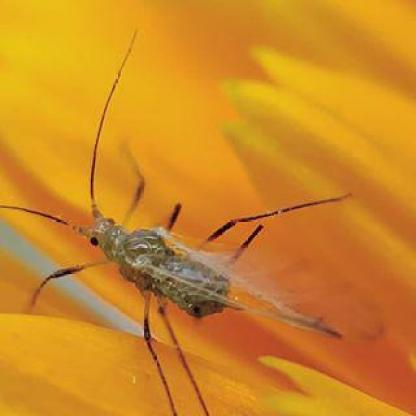aphid: (25, 109, 329, 408)
